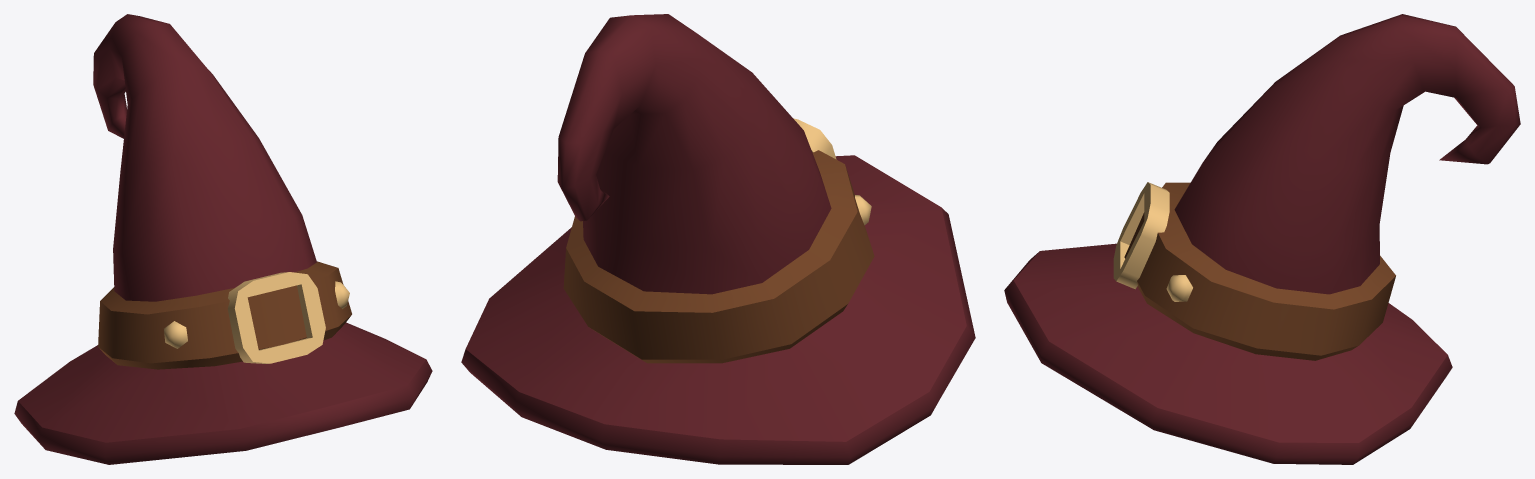
Rendered from Head_36.fbx.
The picture shows the model from 3 angles, left to right: view 1: azimuth 30°, elevation 25°; view 2: azimuth 150°, elevation 25°; view 3: azimuth 270°, elevation 25°; orthographic projection. The views are drawn at different scales.
Visible parts, largest first — view 1: Head_36; view 2: Head_36; view 3: Head_36.
Boxes of the visible parts, x1=… form: Head_36: x1=14, y1=14, x2=432, y2=464; Head_36: x1=461, y1=14, x2=975, y2=464; Head_36: x1=1004, y1=14, x2=1520, y2=464.
Size of the model in its own units: 92.07 by 84.49 by 107.
